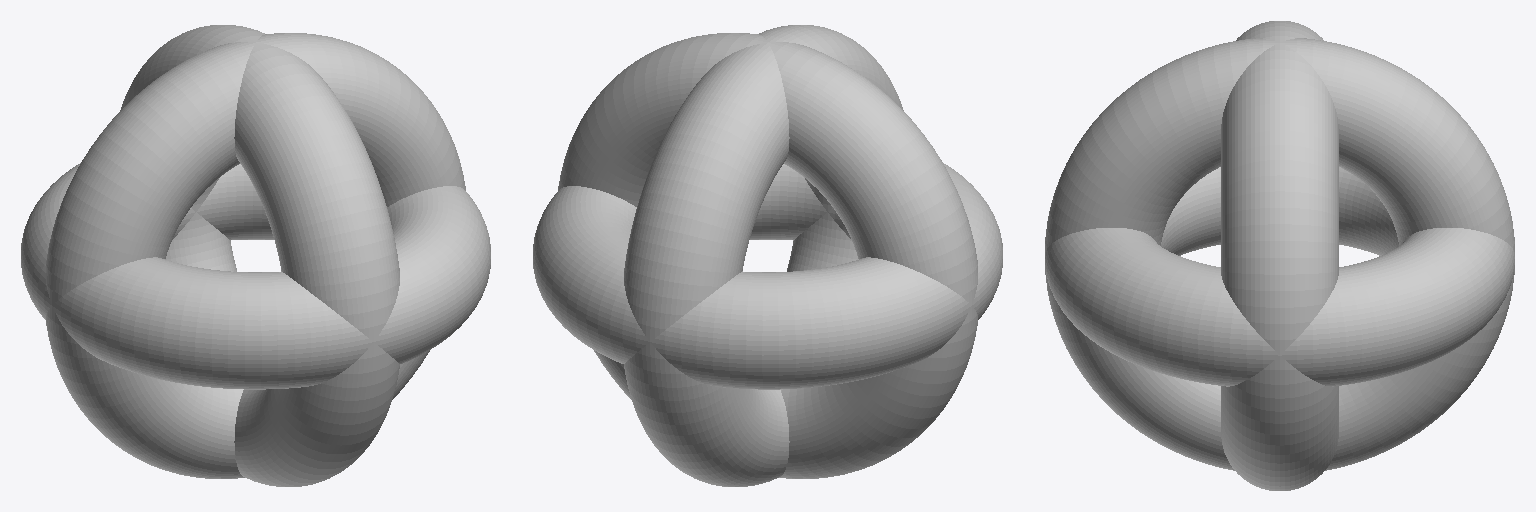
File: TorusBall.obj
3 renders of one model, left to right at view 1: azimuth 30°, elevation 25°; view 2: azimuth 150°, elevation 25°; view 3: azimuth 270°, elevation 25°, orthographic.
Parts seen in each view (by area): view 1: TorusBall; view 2: TorusBall; view 3: TorusBall.
Boxes of the visible parts, <box> form: TorusBall: <box>21,25,490,486</box>; TorusBall: <box>533,25,1002,486</box>; TorusBall: <box>1045,21,1514,490</box>.
Bounding box in the file's own units: 1.96 × 1.96 × 1.96.